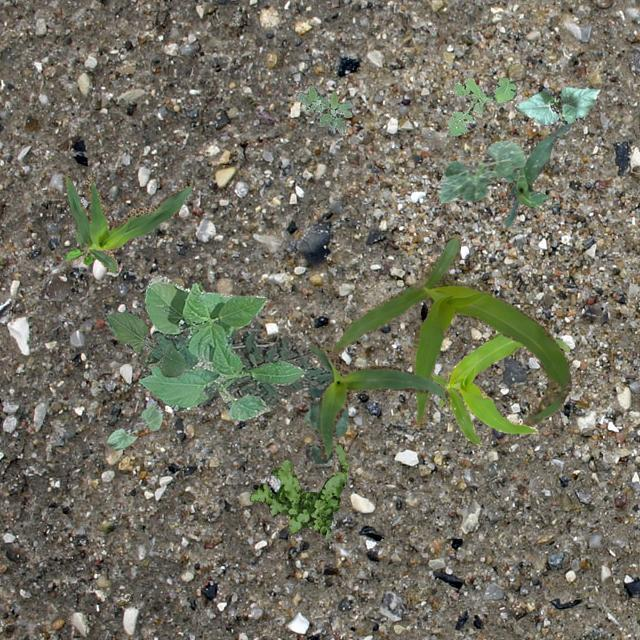crop: (330, 232, 570, 424), (138, 276, 304, 420), (307, 341, 448, 458), (432, 332, 568, 444), (61, 172, 193, 272), (504, 122, 570, 226), (102, 310, 186, 376), (436, 140, 524, 202), (515, 84, 599, 124), (304, 401, 348, 464), (106, 402, 162, 450)
weed: (150, 328, 332, 408), (248, 442, 348, 538), (444, 76, 516, 134), (294, 84, 352, 134), (64, 248, 92, 264)
